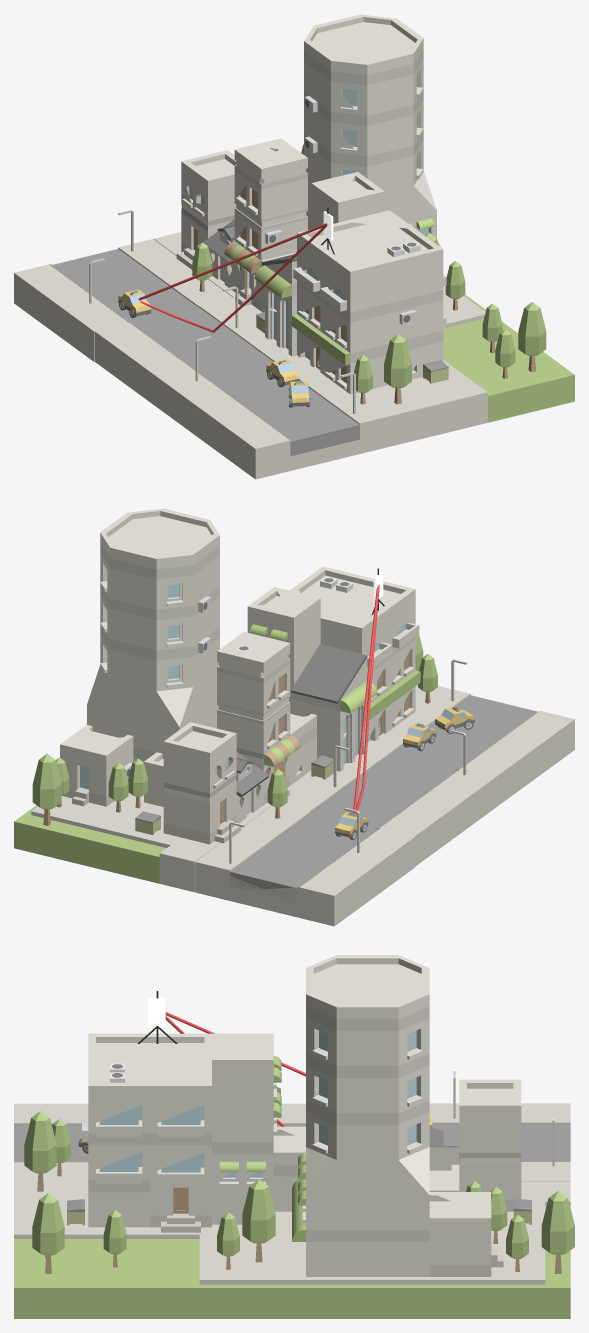
Rendered from multipath-effect.glb.
The picture shows the model from 3 angles, top to bottom: view 1: azimuth 30°, elevation 25°; view 2: azimuth 150°, elevation 25°; view 3: azimuth 270°, elevation 25°; orthographic projection. The views are drawn at different scales.
Visible parts, largest first — view 1: Group3, Group2, Group58, Group1, Group18, Group110, Group101, Group23, Group41, Group35, Group51, Group15 (+46 smaller); view 2: Group58, Group1, Group3, Group57, Group124, Group38, Group70, Group121, Group41, Group105, Group87, Group96 (+49 smaller); view 3: Group2, Group4, Group57, Group58, Group3, Group118, Group157, Group122, Group73, Group37, Group155, Group69 (+57 smaller).
Part boxes in pixels (x1,y1,x2,y2): Group3: [175, 358, 394, 479]; Group2: [365, 319, 574, 445]; Group58: [14, 239, 232, 361]; Group1: [95, 297, 306, 420]; Group18: [320, 263, 396, 312]; Group110: [317, 72, 390, 115]; Group101: [317, 112, 390, 156]; Group23: [323, 303, 396, 352]; Group41: [234, 170, 307, 219]; Group35: [311, 172, 384, 212]; Group51: [234, 138, 307, 179]; Group15: [323, 246, 396, 282]; Group58: [195, 805, 414, 926]; Group1: [284, 747, 494, 866]; Group3: [367, 686, 574, 807]; Group57: [14, 793, 271, 892]; Group124: [163, 784, 241, 844]; Group38: [291, 644, 367, 703]; Group70: [133, 677, 206, 727]; Group121: [163, 744, 236, 793]; Group41: [217, 664, 290, 713]; Group105: [133, 566, 206, 609]; Group87: [133, 651, 206, 691]; Group96: [133, 610, 206, 650]; Group2: [14, 1182, 199, 1318]; Group4: [199, 1211, 384, 1318]; Group57: [385, 1182, 570, 1318]; Group58: [429, 1103, 570, 1181]; Group3: [14, 1103, 88, 1181]; Group118: [429, 1230, 503, 1276]; Group157: [150, 1180, 211, 1232]; Group122: [459, 1079, 521, 1117]; Group73: [298, 1179, 367, 1229]; Group37: [212, 1056, 281, 1106]; Group155: [150, 1145, 211, 1184]; Group69: [367, 1147, 429, 1194].
Bounding box in the file's own units: 272 × 214 × 357.
